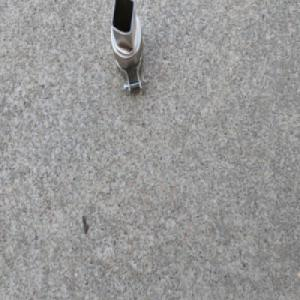MetalPart: (107, 0, 148, 100)
